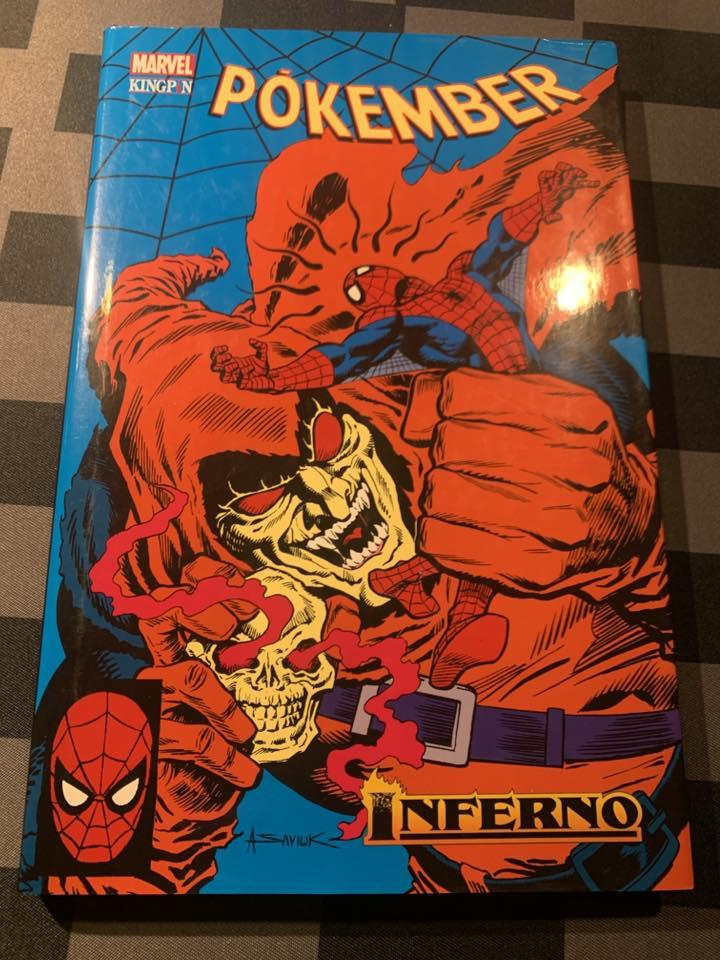comic: (21, 28, 691, 892)
